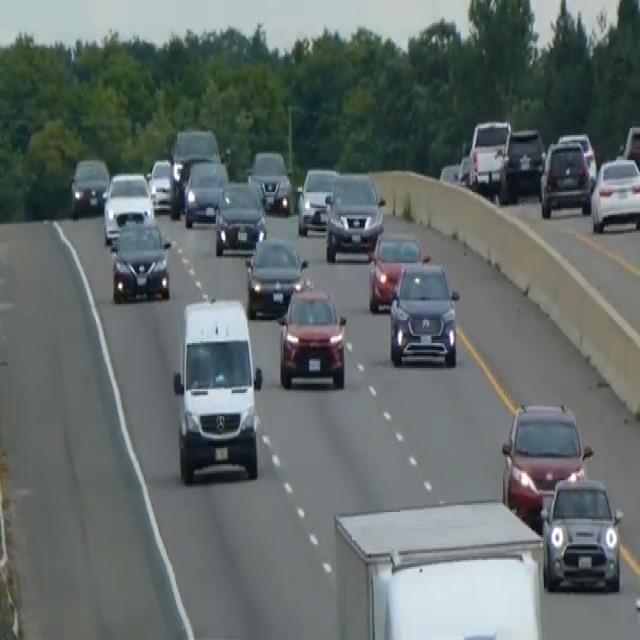car: (500, 398, 592, 521), (539, 473, 623, 592), (388, 258, 460, 368), (277, 278, 347, 390), (324, 169, 385, 261), (244, 235, 307, 318), (110, 219, 172, 302), (367, 229, 426, 313), (538, 137, 591, 219), (214, 178, 267, 256), (102, 169, 154, 245), (590, 153, 639, 233), (499, 124, 545, 201), (295, 163, 339, 234), (467, 118, 510, 190), (183, 158, 228, 226), (170, 126, 220, 187), (247, 148, 292, 215), (69, 155, 109, 215), (557, 130, 597, 187), (147, 156, 176, 212), (621, 123, 639, 176)
minibus: (171, 294, 264, 486)
